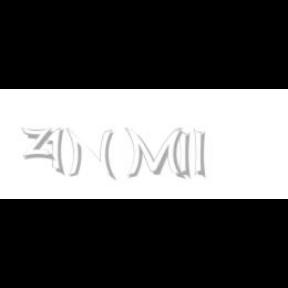1: (43, 128, 65, 176)
I: (179, 128, 192, 180)
M: (124, 128, 184, 180)
N: (66, 128, 114, 180)
l: (194, 128, 210, 180)
z: (21, 128, 57, 160)
